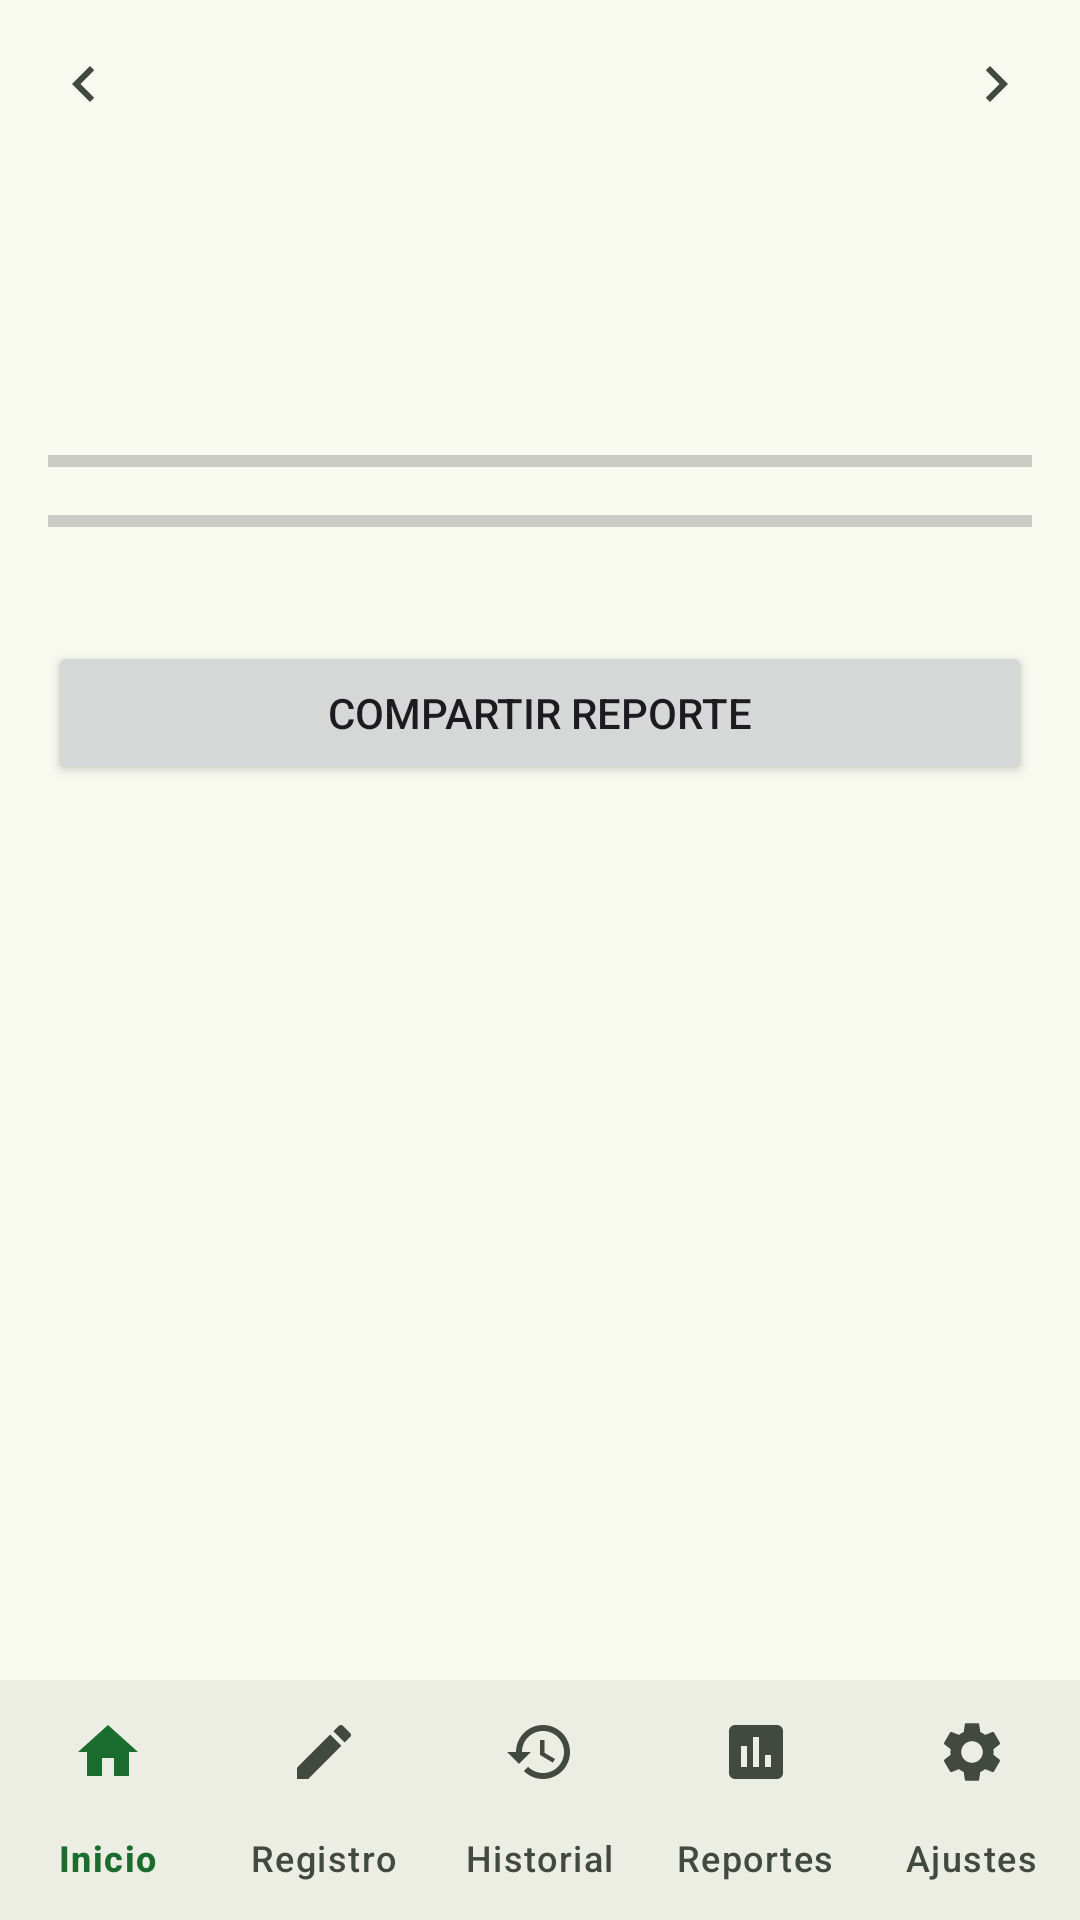

Icon click points for this 1080 × 1920 phone screenshot, format [x,y]:
chevron left: [83,84]
chevron right: [997,84]
